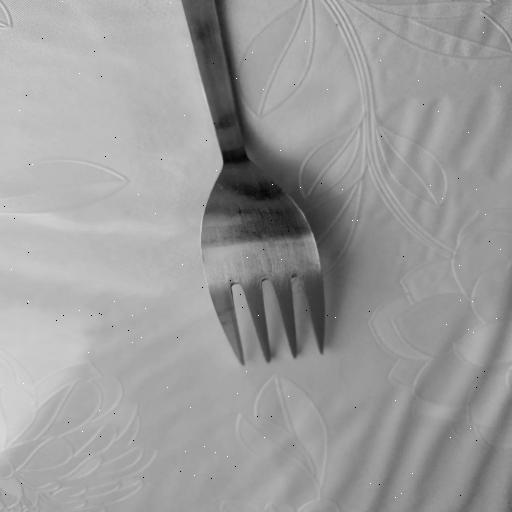fork: (177, 0, 332, 372)
